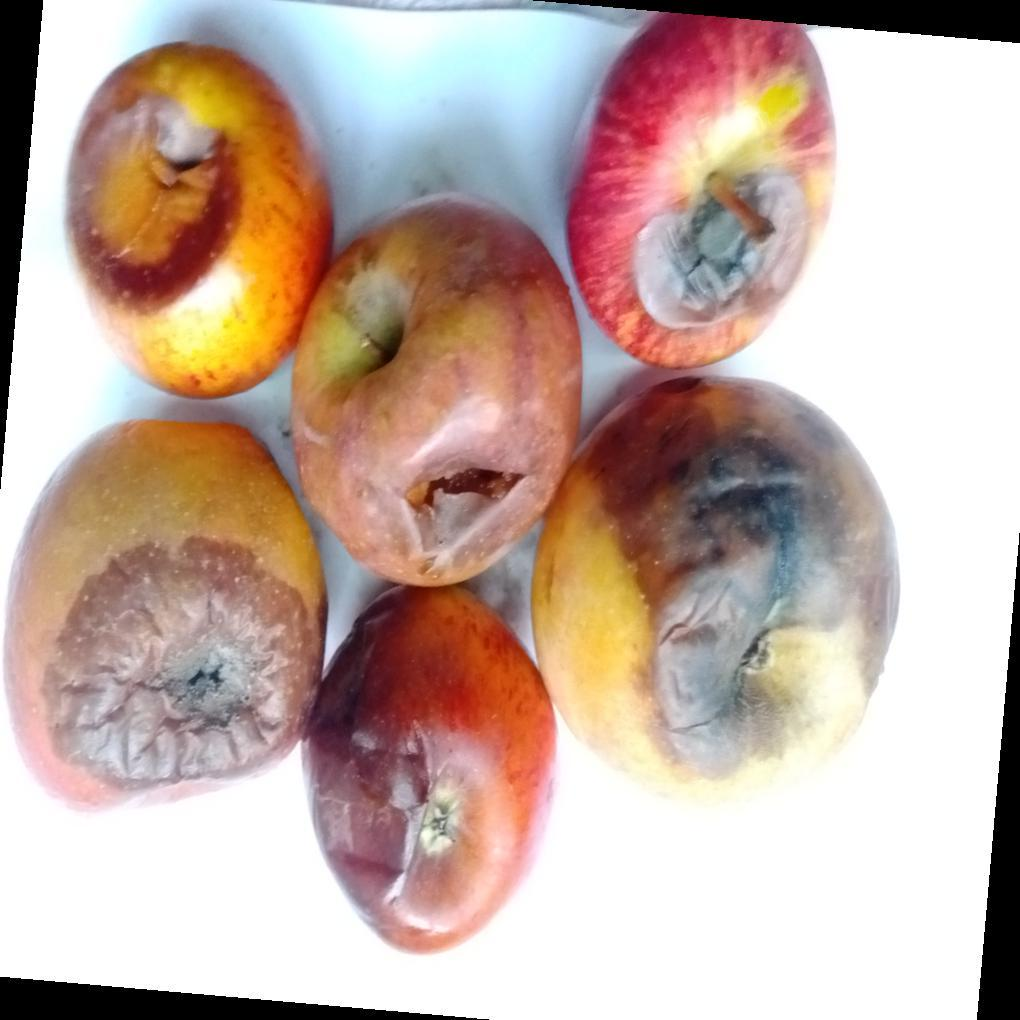FreshOrange: (0, 14, 907, 952)
